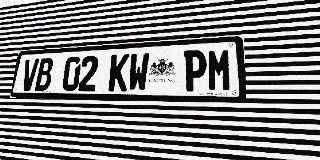0: (61, 56, 82, 91)
2: (78, 55, 99, 91)
B: (34, 58, 54, 91)
K: (108, 54, 130, 91)
M: (207, 48, 232, 91)
P: (183, 49, 206, 91)
V: (20, 58, 39, 91)
W: (127, 53, 150, 91)
